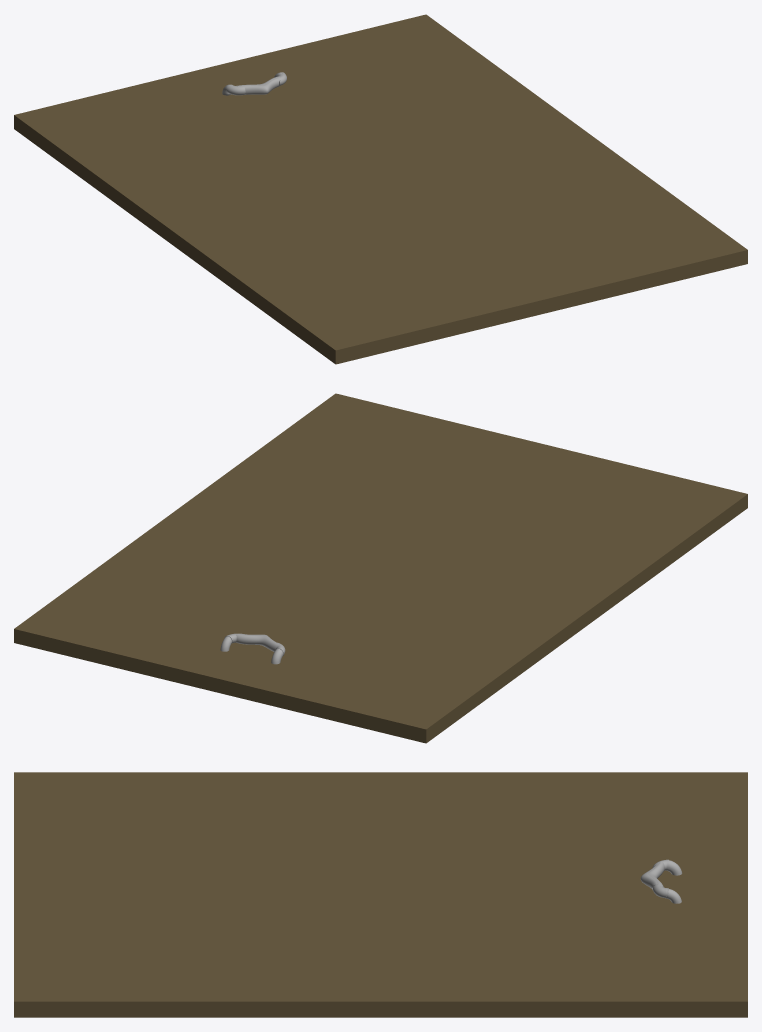
File: Clipboard.fbx
The picture shows the model from 3 angles, top to bottom: view 1: azimuth 30°, elevation 25°; view 2: azimuth 150°, elevation 25°; view 3: azimuth 270°, elevation 25°; orthographic projection. The views are drawn at different scales.
Parts seen in each view (by area): view 1: pCube1; view 2: pCube1; view 3: pCube1.
Boxes of the visible parts, x1,y1,x2,y2 form: pCube1: [14, 14, 747, 364]; pCube1: [14, 393, 747, 743]; pCube1: [14, 772, 747, 1017].
Size of the model in its own units: 28.29 by 1.7 by 38.25.
